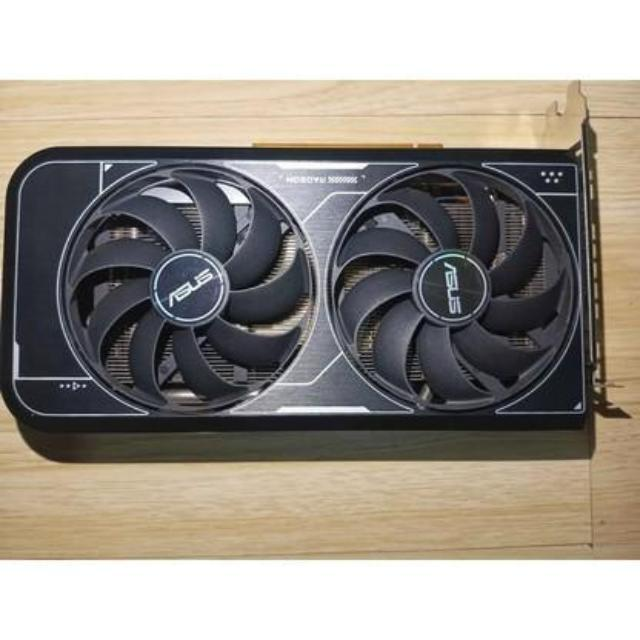GPU: (3, 114, 612, 448)
